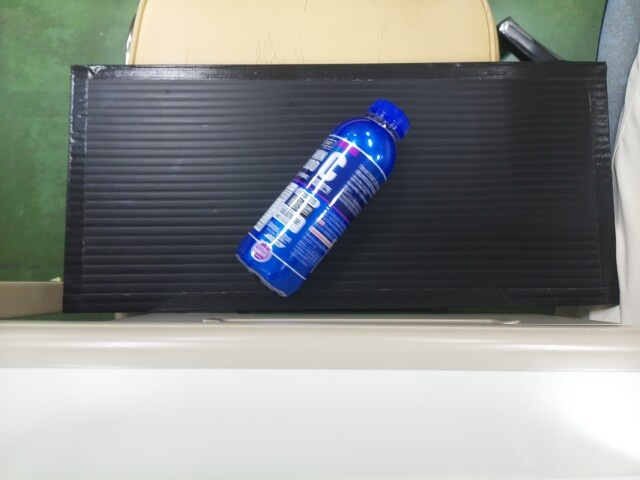plastic_bottle: (237, 94, 411, 290)
